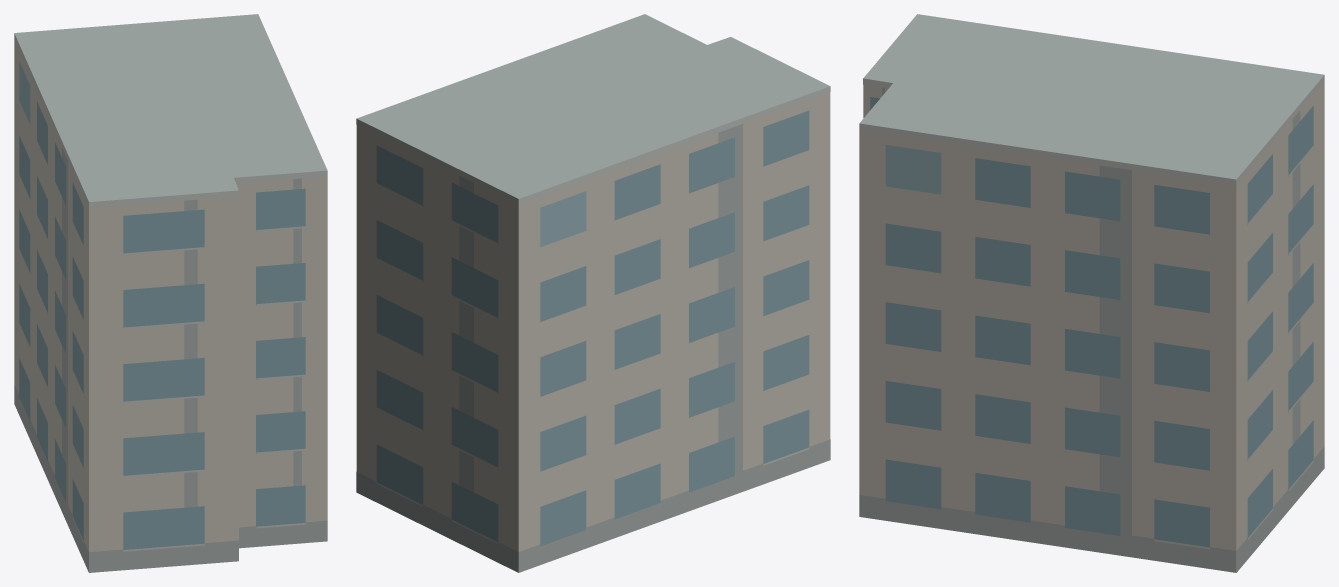
Rendered from survey-upis-32938369.glb.
3 renders of one model, left to right at view 1: azimuth 30°, elevation 25°; view 2: azimuth 150°, elevation 25°; view 3: azimuth 270°, elevation 25°, orthographic. The views are drawn at different scales.
Visible parts, largest first — view 1: survey-upis-32938369.tmp; view 2: survey-upis-32938369.tmp; view 3: survey-upis-32938369.tmp.
Part boxes in pixels (x1=…): survey-upis-32938369.tmp: x1=14, y1=14, x2=327, y2=572; survey-upis-32938369.tmp: x1=356, y1=14, x2=830, y2=572; survey-upis-32938369.tmp: x1=859, y1=14, x2=1324, y2=572.
Bounding box in the file's own units: 13.77 × 15.25 × 16.36.
